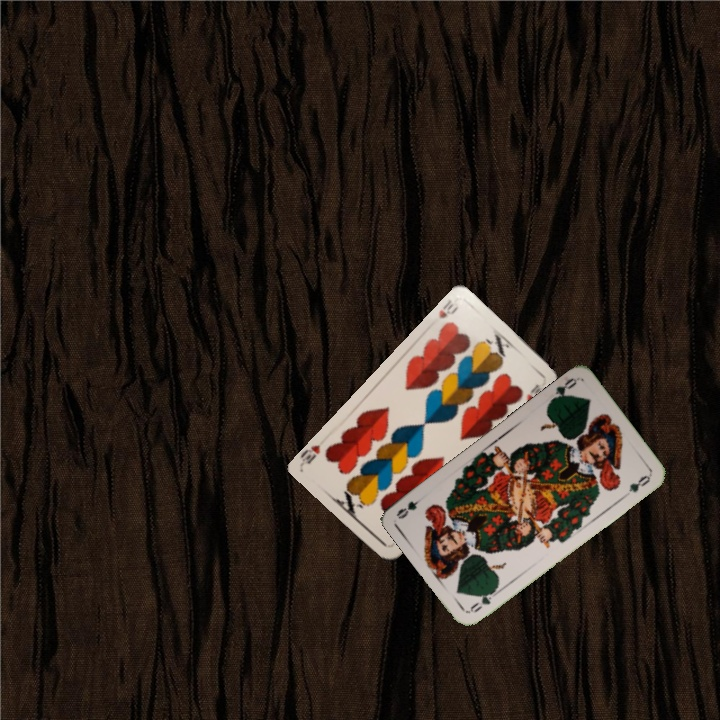GO: (466, 584, 502, 616), (545, 374, 579, 406)
H10: (435, 295, 461, 321)
